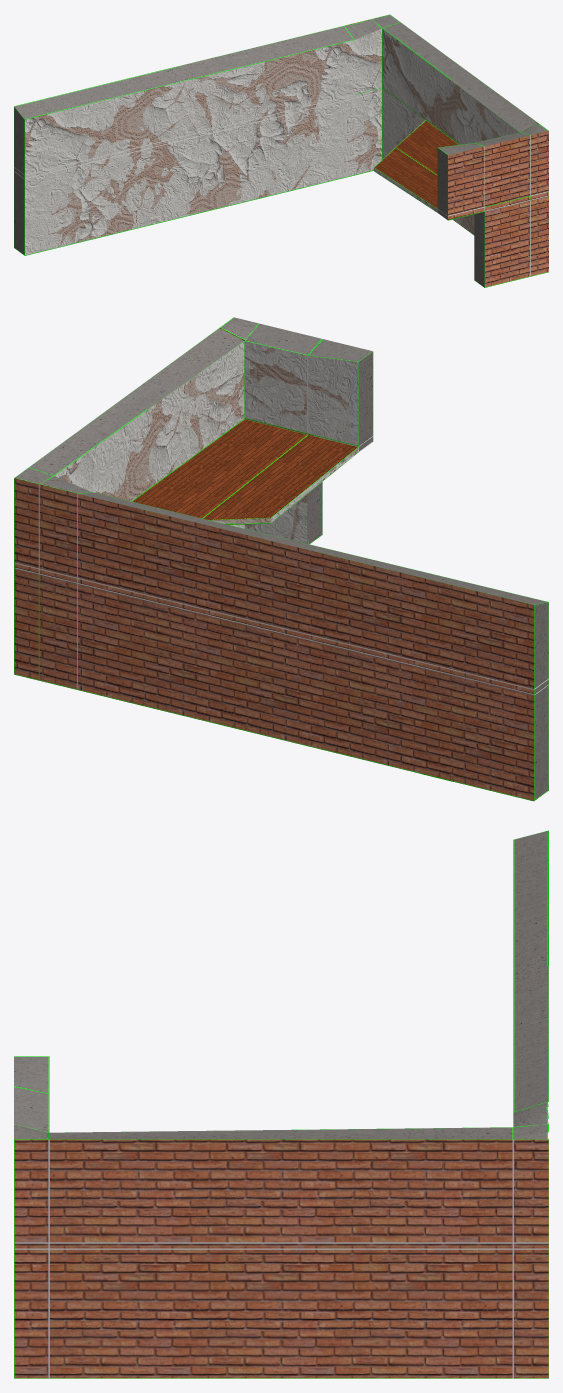
File: House1RuinLong.fbx
3 views of the same model, one above another, from view 1: azimuth 30°, elevation 25°; view 2: azimuth 150°, elevation 25°; view 3: azimuth 270°, elevation 25° (orthographic). The views are drawn at different scales.
Visible parts, largest first — view 1: House1RuinLong; view 2: House1RuinLong; view 3: House1RuinLong.
Boxes of the visible parts, left/top/right/bottom form: House1RuinLong: left=14, top=14, right=548, bottom=287; House1RuinLong: left=14, top=317, right=548, bottom=801; House1RuinLong: left=14, top=830, right=548, bottom=1378.
Bounding box in the file's own units: 10.25 × 3.7 × 7.5.
1 material, 1 textured.
